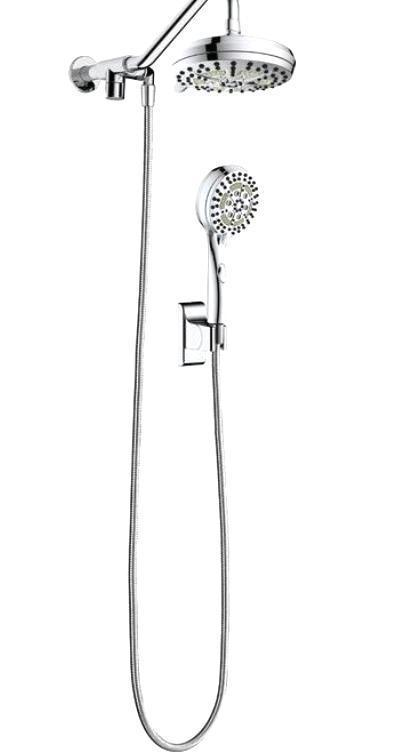Ducha: (66, 0, 297, 740)
